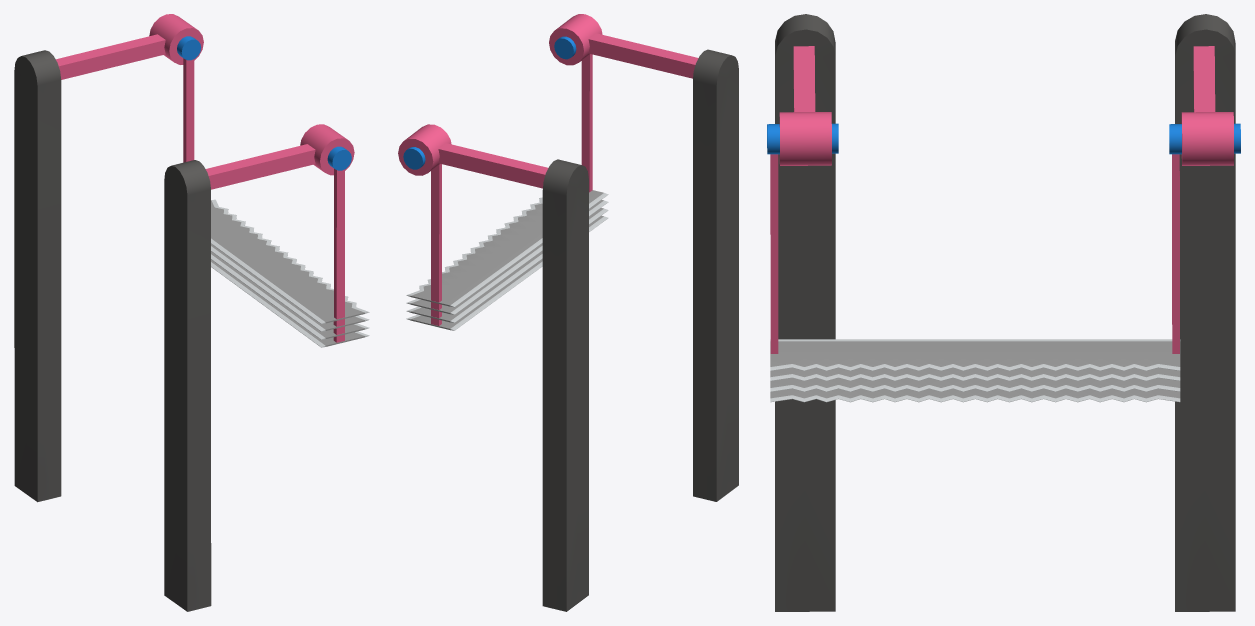
File: trap_013.fbx
3 views of the same model, side by side, from view 1: azimuth 30°, elevation 25°; view 2: azimuth 150°, elevation 25°; view 3: azimuth 270°, elevation 25° (orthographic). The views are drawn at different scales.
Visible parts, largest first — view 1: trap_013, trap_013_rotate; view 2: trap_013, trap_013_rotate; view 3: trap_013, trap_013_rotate.
Part boxes in pixels (<box>): trap_013: <box>14,14,354,611</box>; trap_013_rotate: <box>183,58,369,347</box>; trap_013: <box>398,14,738,611</box>; trap_013_rotate: <box>406,54,608,330</box>; trap_013: <box>767,14,1240,611</box>; trap_013_rotate: <box>770,154,1180,402</box>.
Size of the model in its own units: 1382 by 3189 by 2352.
